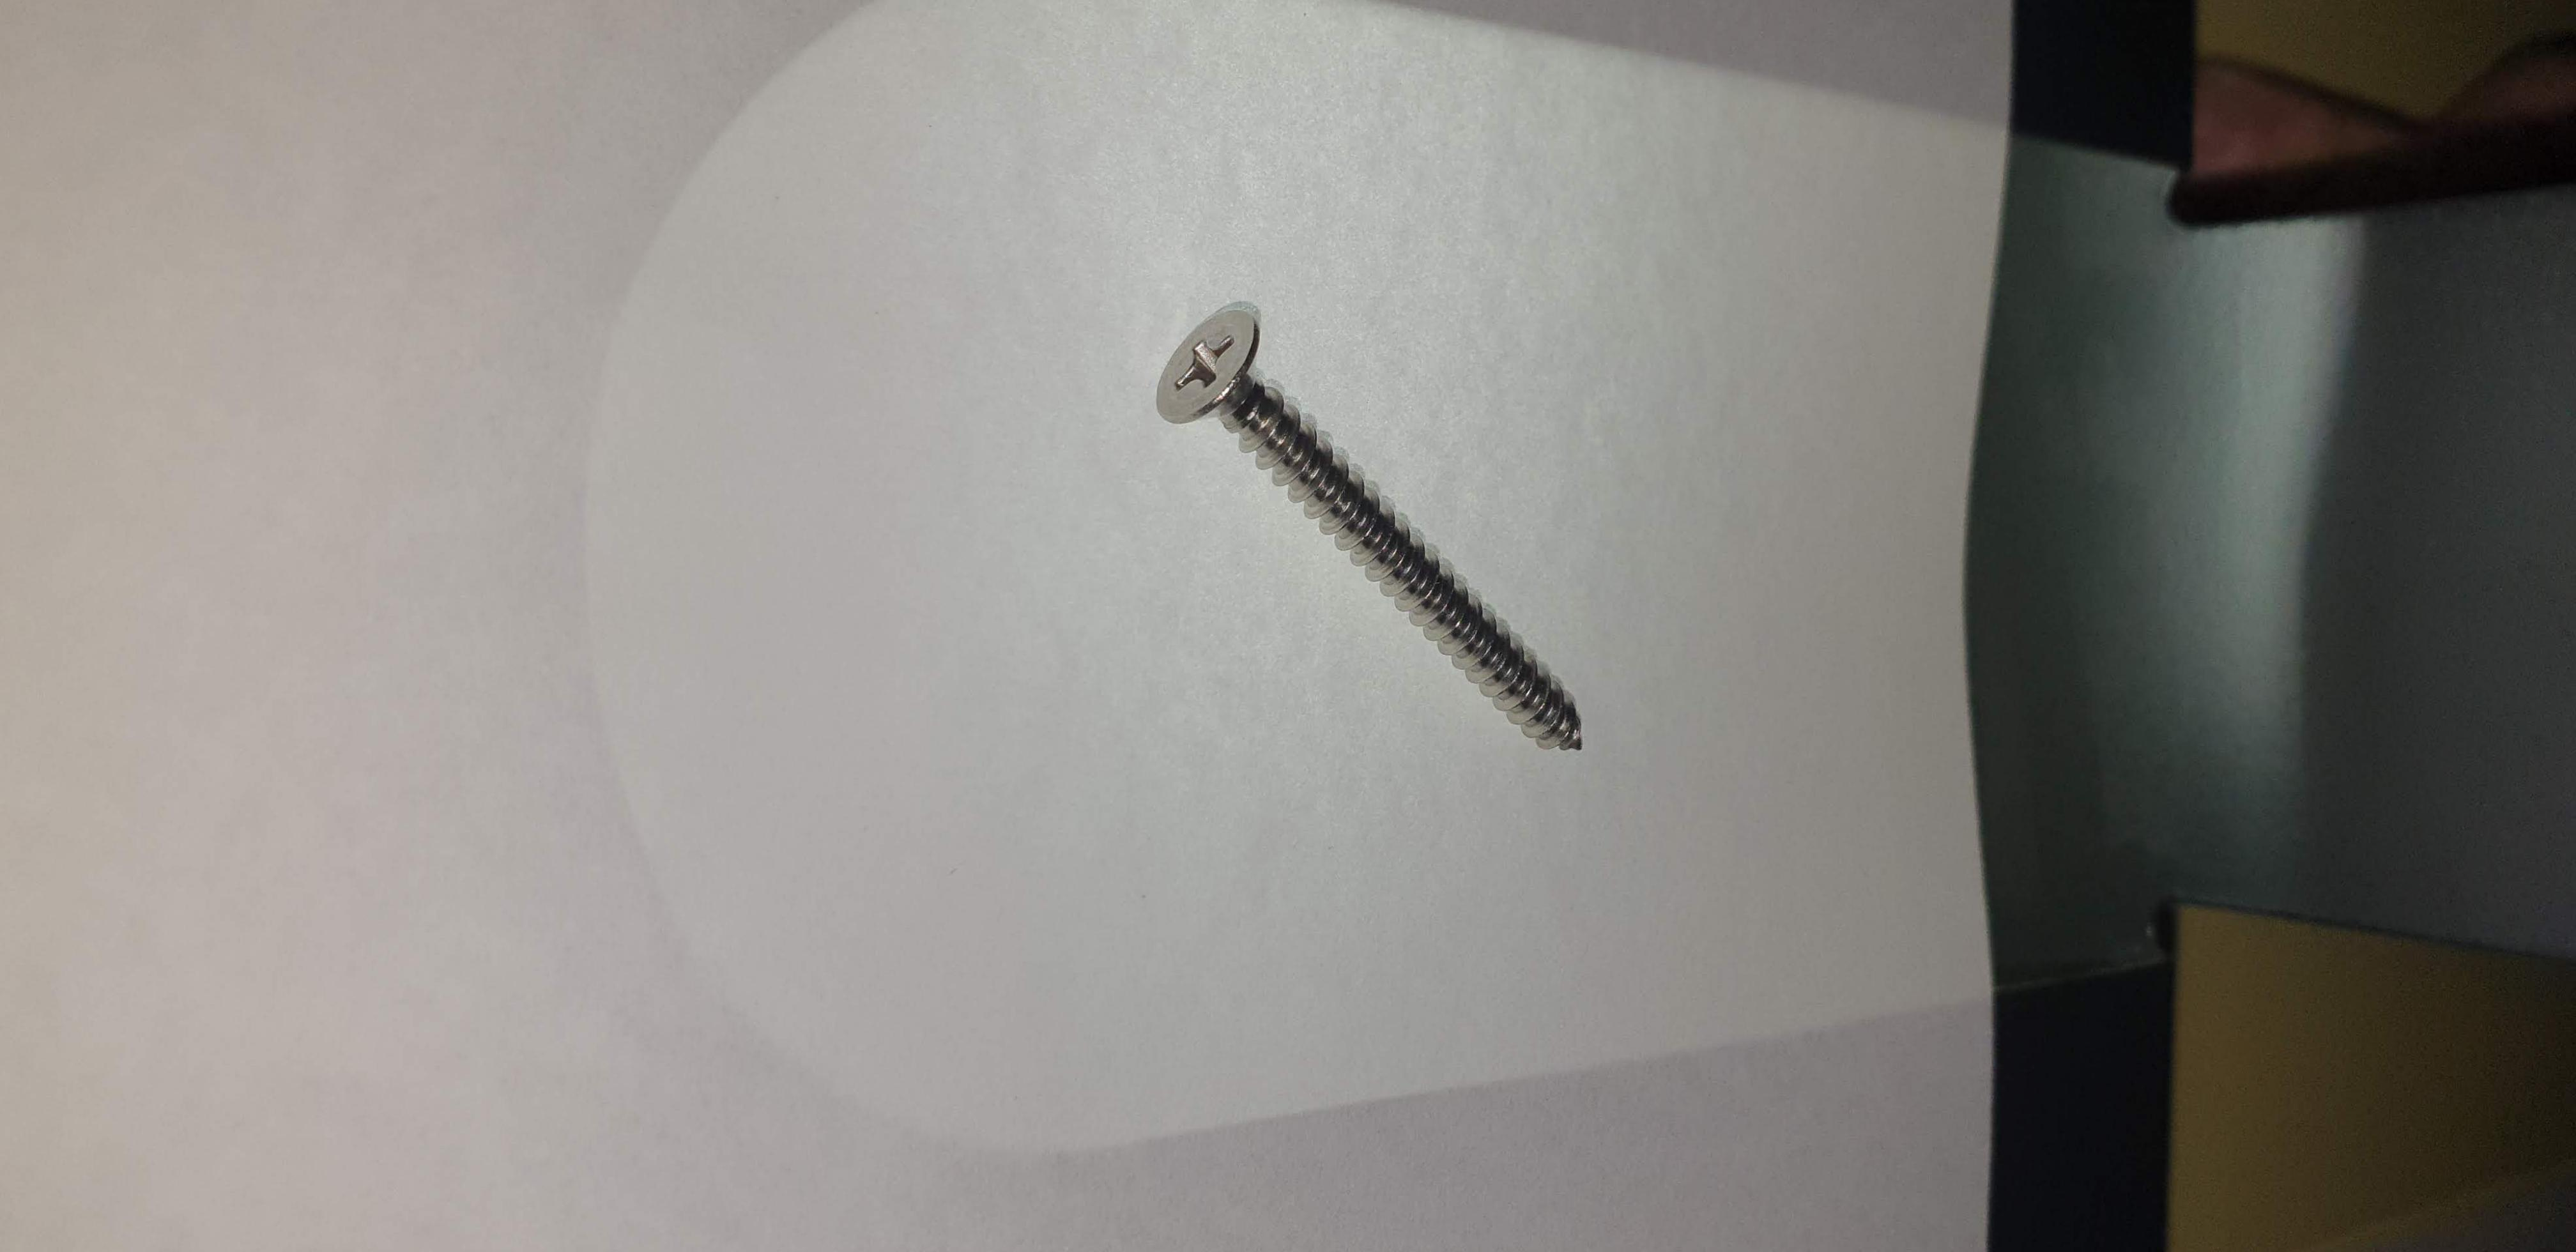fastener: (1069, 255, 1700, 838)
